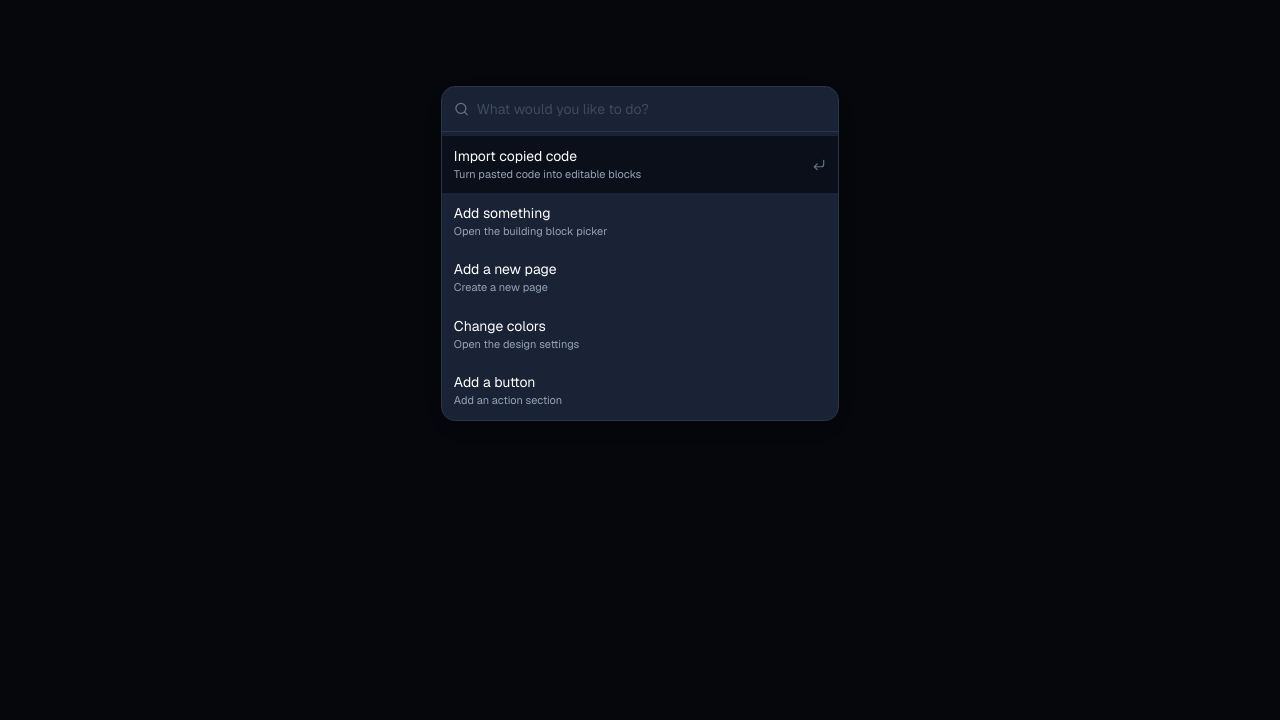
CommandPalette › filters by synonym search
The image size is (1280, 720).
Type "phone" into the field named "Search commands" at (652, 109), box [477, 87, 826, 131]
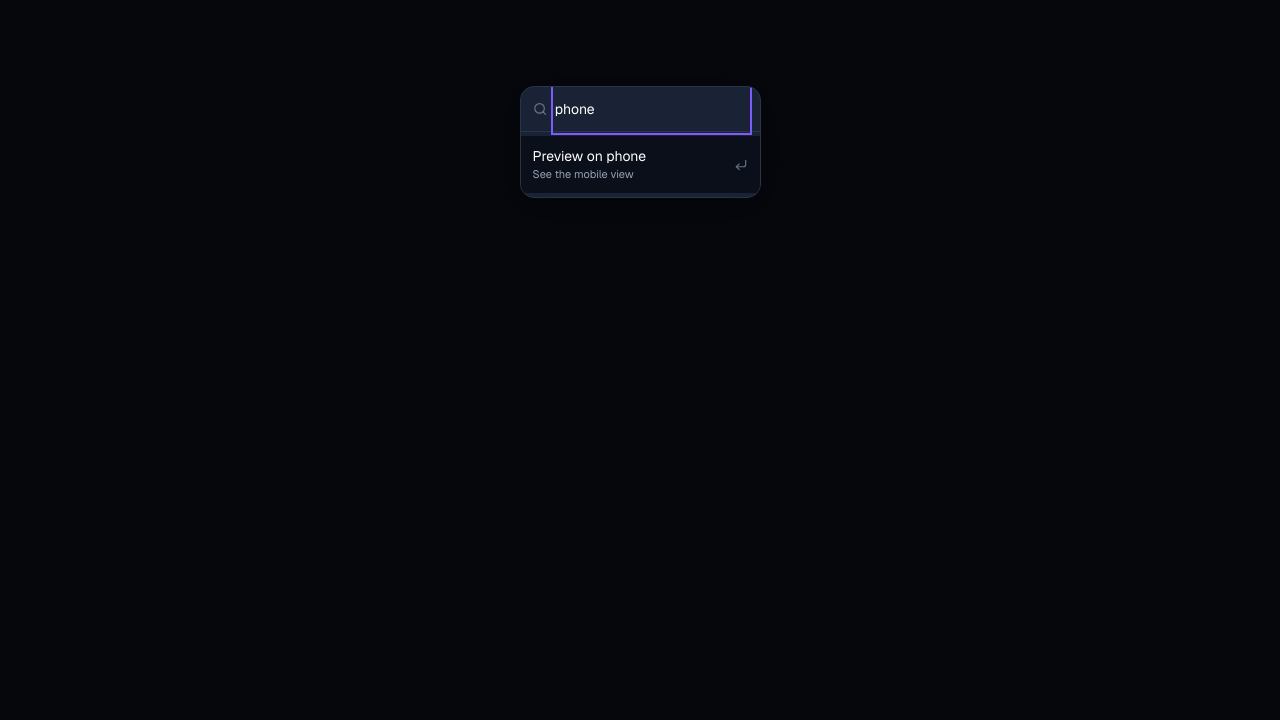
Expected: the button with test id "command-preview-phone" is shown, [520, 136, 760, 193]
